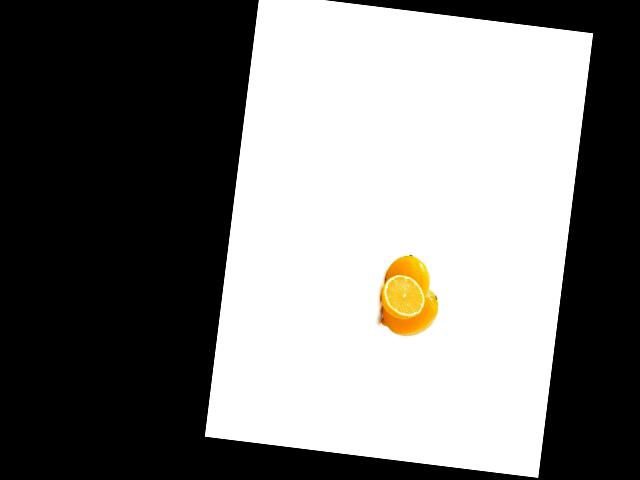lemon: (380, 252, 433, 309)
